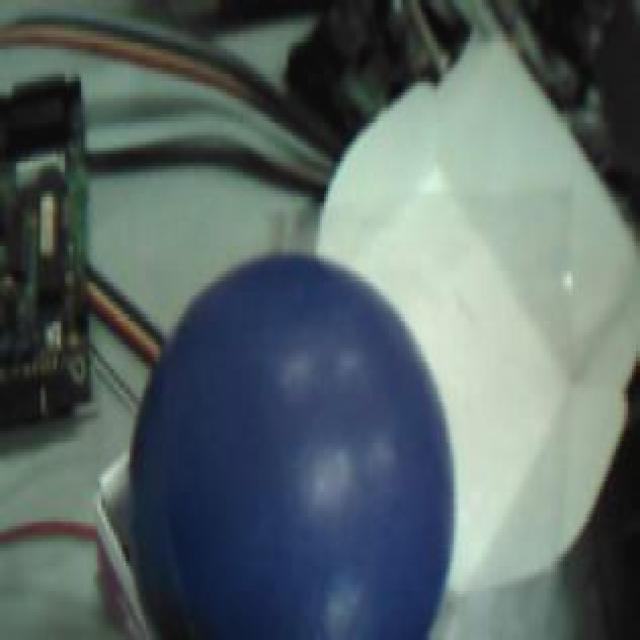BallPurple: (129, 255, 454, 637)
